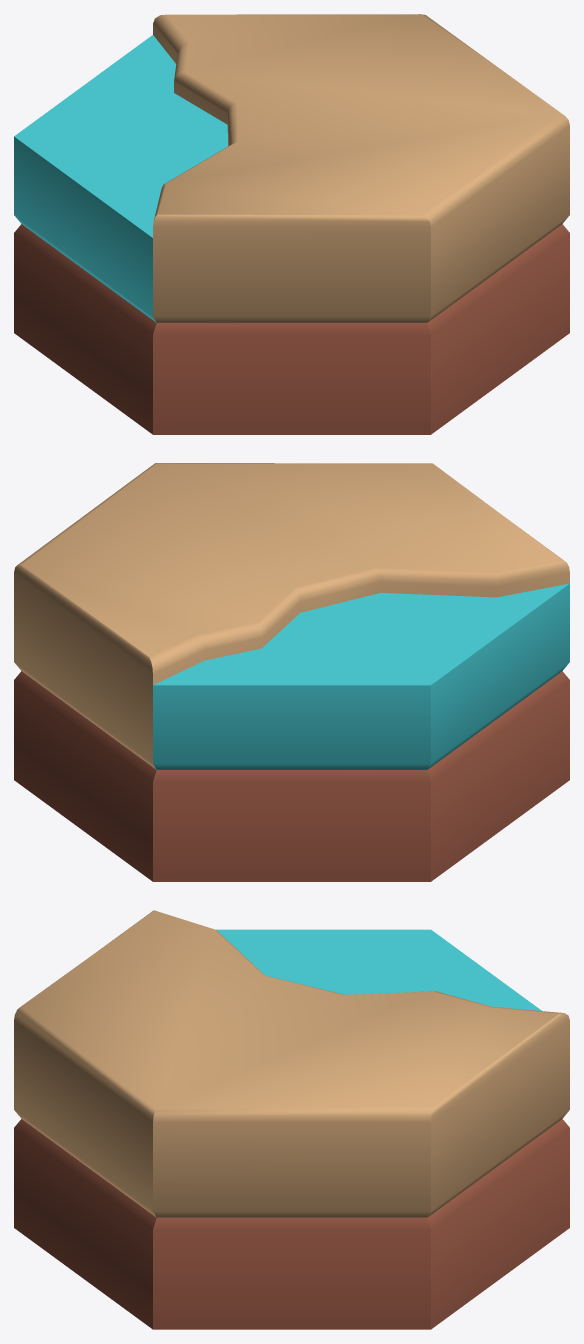
Rendered from hex_sand_waterD_detail.glb.
3 renders of one model, top to bottom at view 1: azimuth 30°, elevation 25°; view 2: azimuth 150°, elevation 25°; view 3: azimuth 270°, elevation 25°, orthographic.
Parts seen in each view (by area): view 1: hex_sand_waterD_detail; view 2: hex_sand_waterD_detail; view 3: hex_sand_waterD_detail.
Boxes of the visible parts, box(x1,y1,x2,y2) form: hex_sand_waterD_detail: box(14, 14, 569, 434); hex_sand_waterD_detail: box(14, 463, 569, 881); hex_sand_waterD_detail: box(14, 910, 569, 1329).
Size of the model in its own units: 2 by 1 by 2.31.
